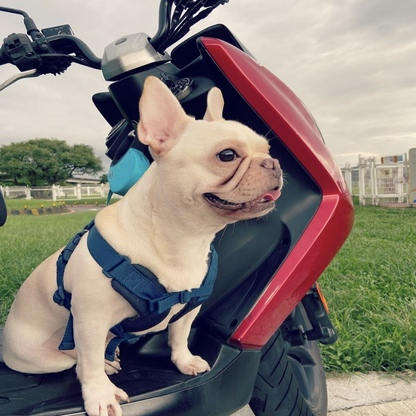bulldog: (1, 72, 285, 416)
